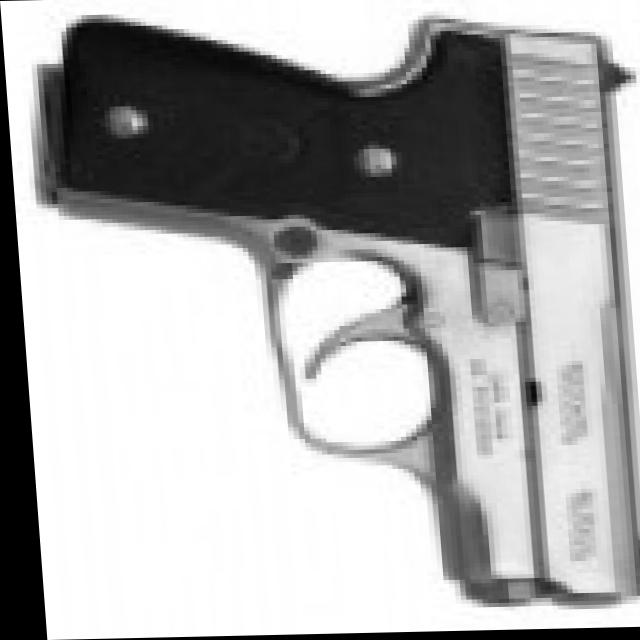handgun: (33, 13, 640, 615)
